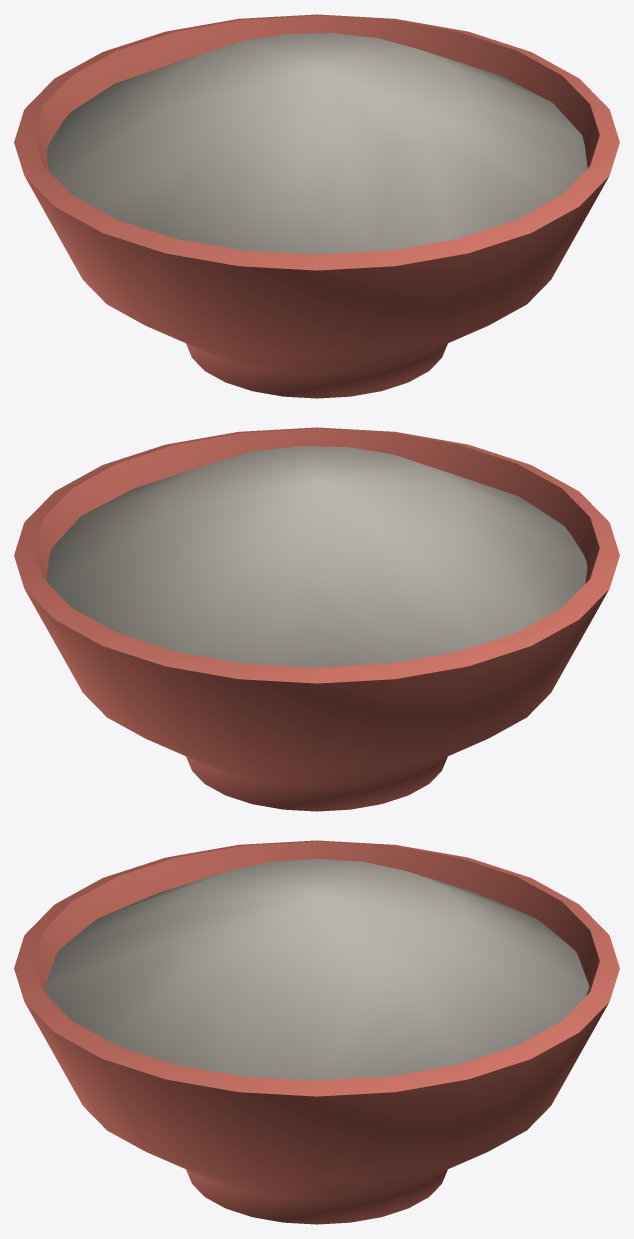
The model's file is dish_rice.glb.
3 views of the same model, one above another, from view 1: azimuth 30°, elevation 25°; view 2: azimuth 150°, elevation 25°; view 3: azimuth 270°, elevation 25° (orthographic).
Parts seen in each view (by area): view 1: PART; view 2: PART; view 3: PART.
Boxes of the visible parts, x1,y1,x2,y2 form: PART: (14,14,619,398); PART: (14,427,619,811); PART: (14,840,619,1224).
Size of the model in its own units: 0.15 by 0.075 by 0.15.
